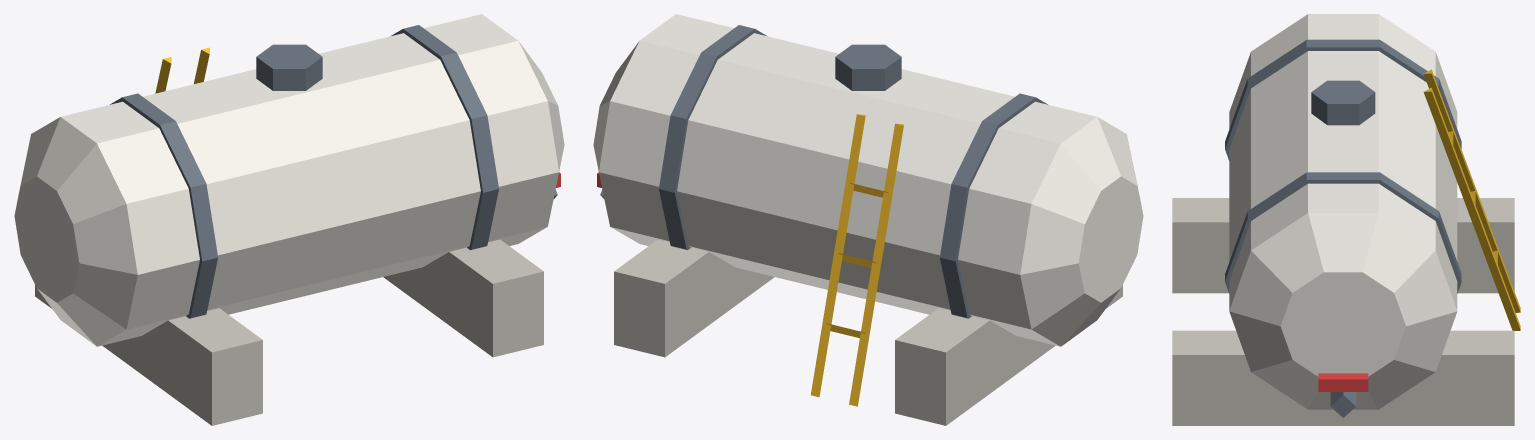
The model's file is tanque.glb.
3 views of the same model, side by side, from view 1: azimuth 30°, elevation 25°; view 2: azimuth 150°, elevation 25°; view 3: azimuth 270°, elevation 25° (orthographic). The views are drawn at different scales.
Visible parts, largest first — view 1: corpo; view 2: corpo; view 3: corpo.
Part boxes in pixels (x1,y1,x2,y2): corpo: [14, 14, 564, 425]; corpo: [593, 14, 1143, 425]; corpo: [1172, 14, 1520, 425].
Size of the model in its own units: 0.79 by 0.3976 by 0.4888.
